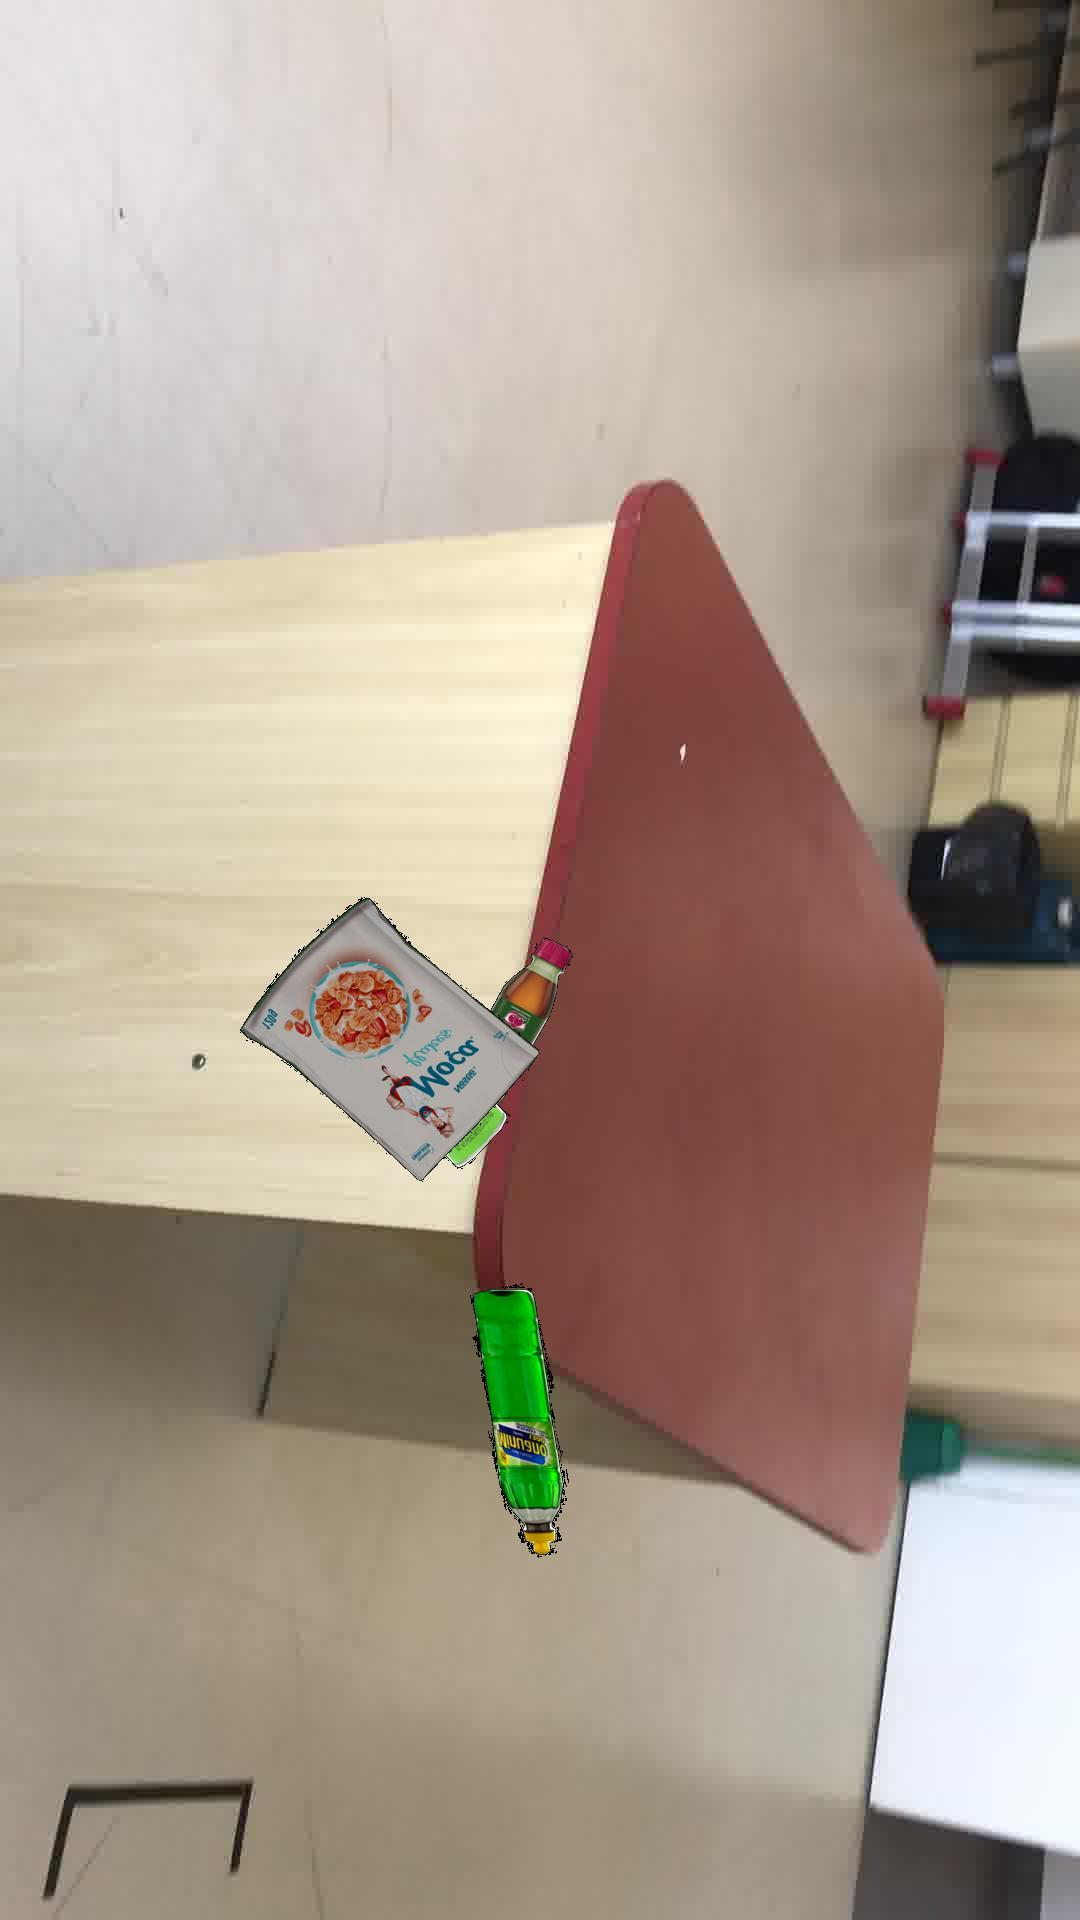cleaner: (469, 1283, 564, 1556)
corn flakes: (239, 895, 538, 1179)
guarana: (488, 936, 571, 1102)
pringles: (444, 1102, 506, 1167)
